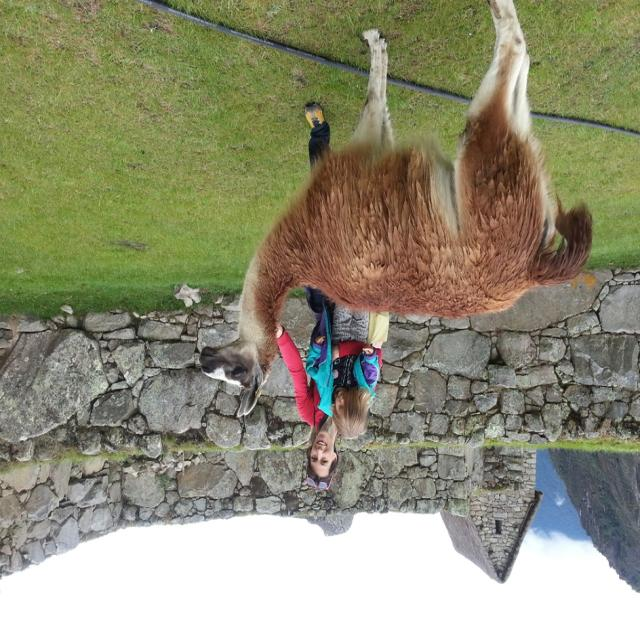alpaca: (198, 0, 594, 420)
